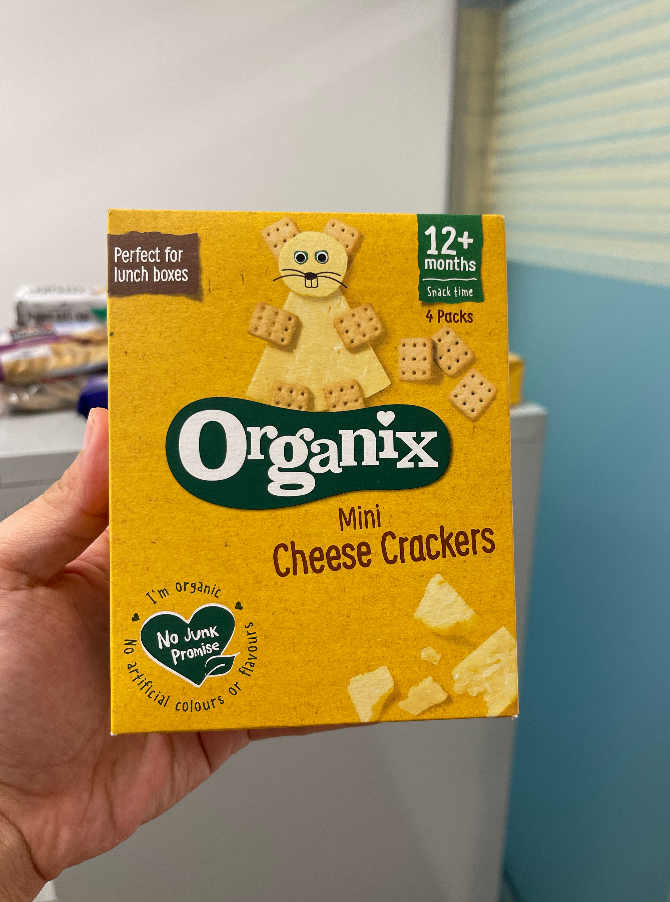crackers_1g-99g: (108, 211, 517, 694)
